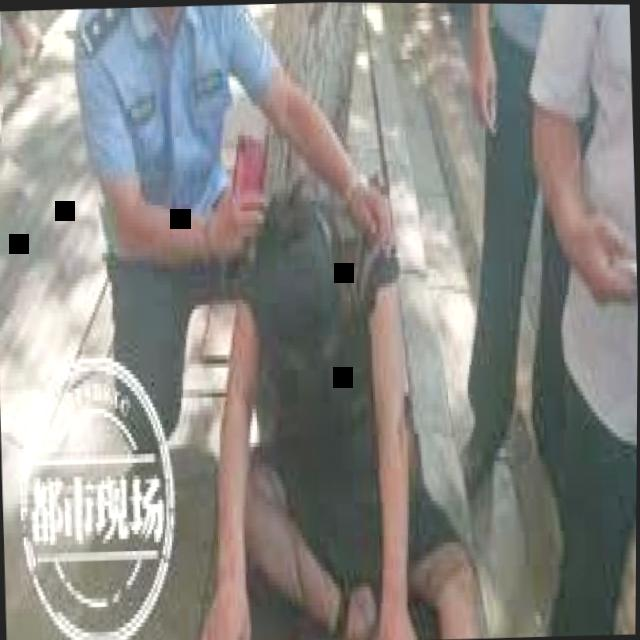Fall-Detected: (146, 145, 508, 640)
